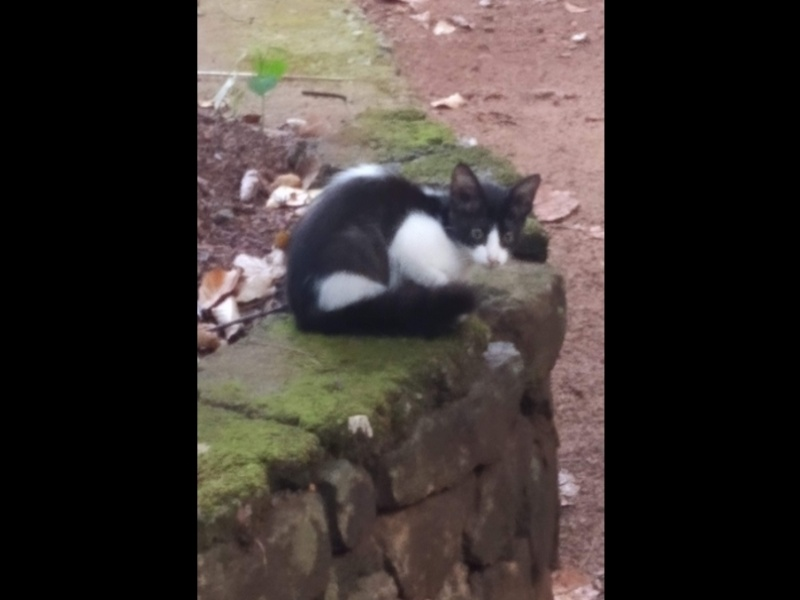cat: (286, 155, 544, 337)
